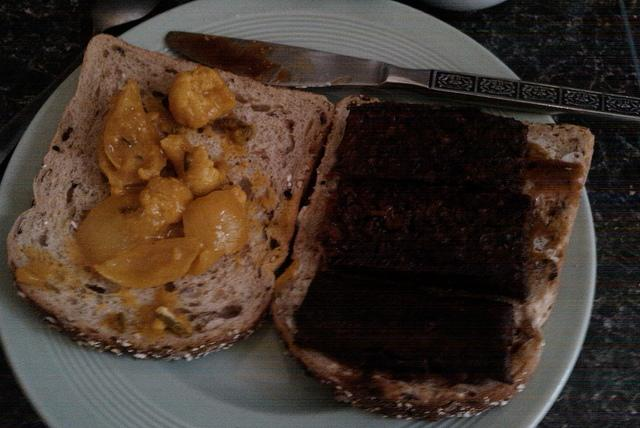onion: (103, 78, 168, 182), (93, 237, 204, 289), (75, 193, 138, 264), (183, 188, 251, 253), (138, 176, 194, 225), (185, 145, 224, 197)
